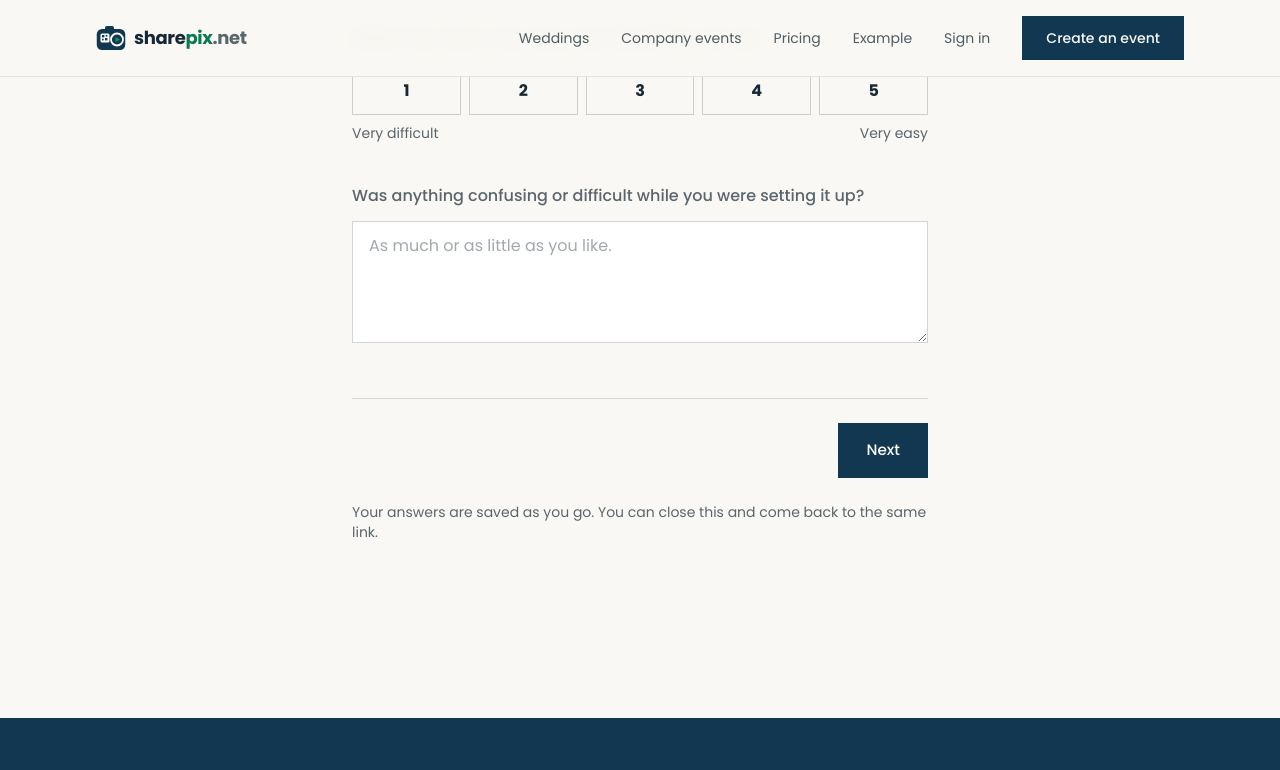
moving between steps › offers the send button only on the last step
This screenshot has width=1280, height=770.
(page scrolled)
Expected: the button "send my feedback" is not shown
Click the button "Next" at (883, 450), box [838, 423, 928, 478]
(page scrolled)
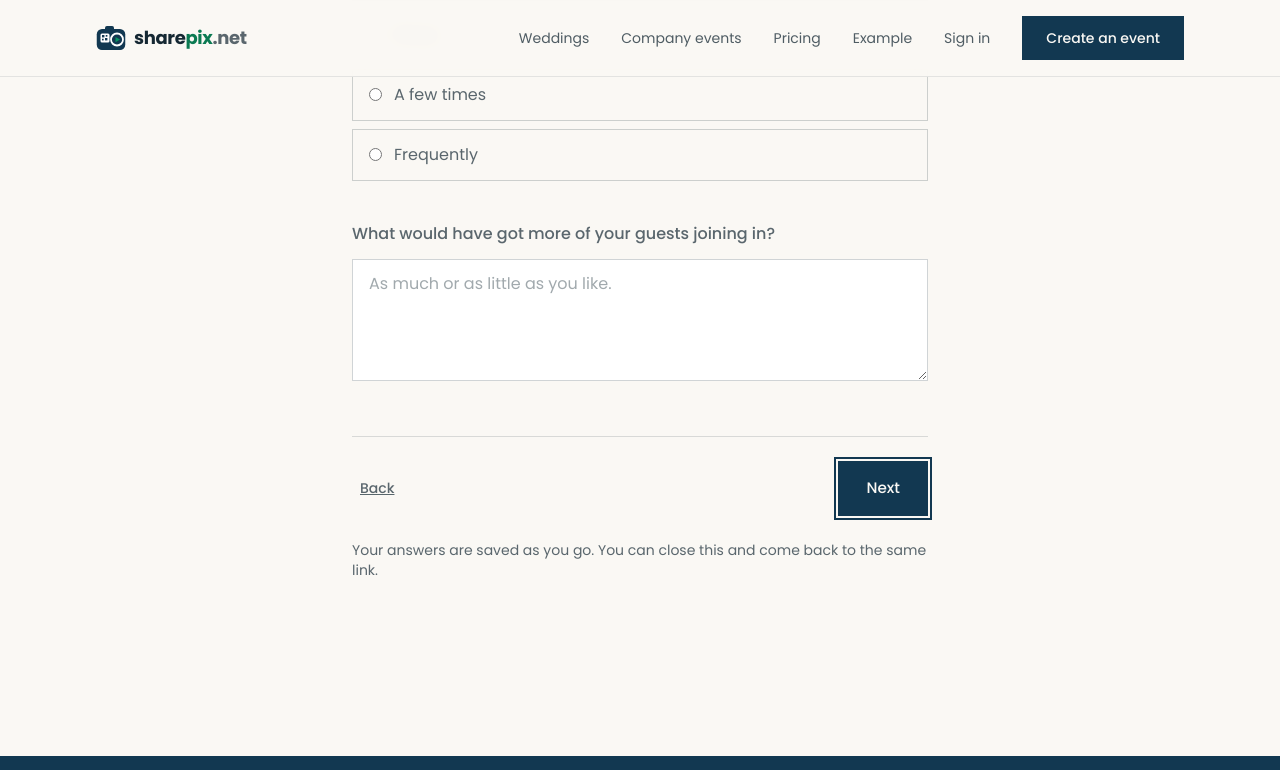
Click the button "Next" at (883, 488), box [838, 461, 928, 516]
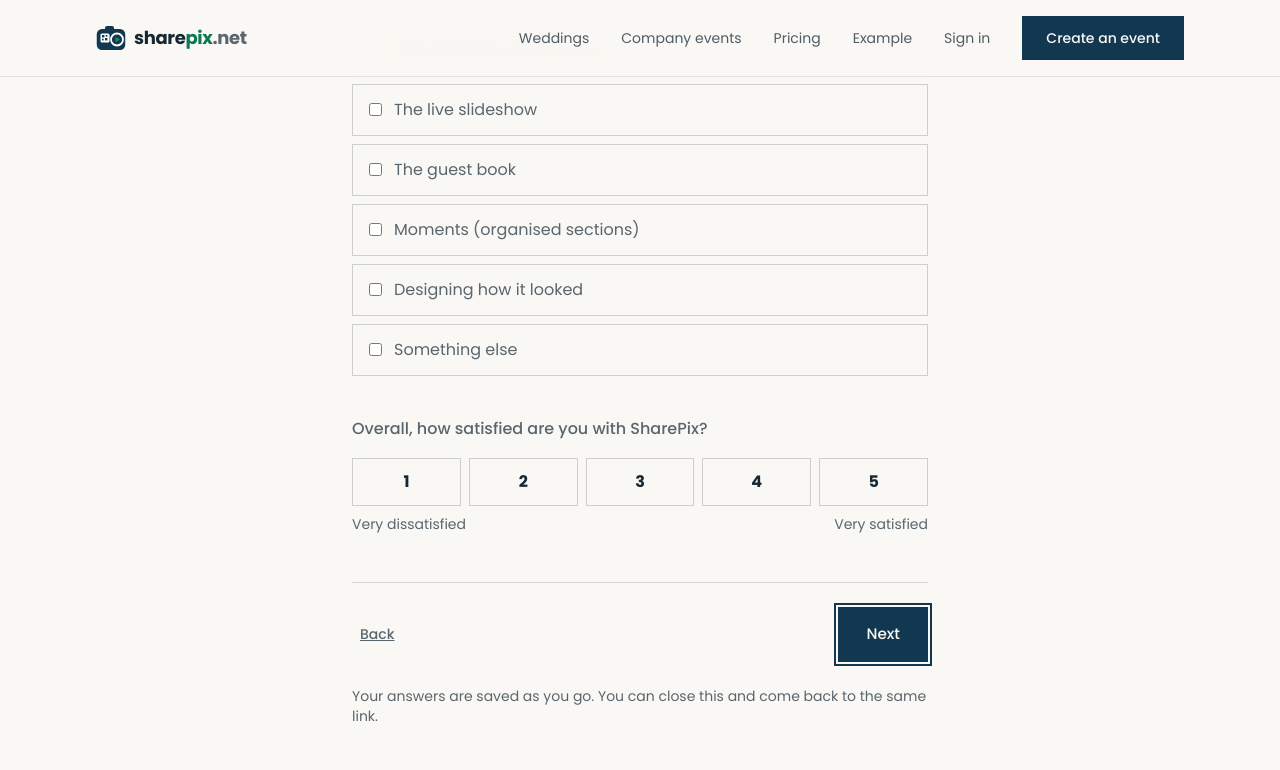
Click the button "Next" at (883, 634), box [838, 607, 928, 662]
(page scrolled)
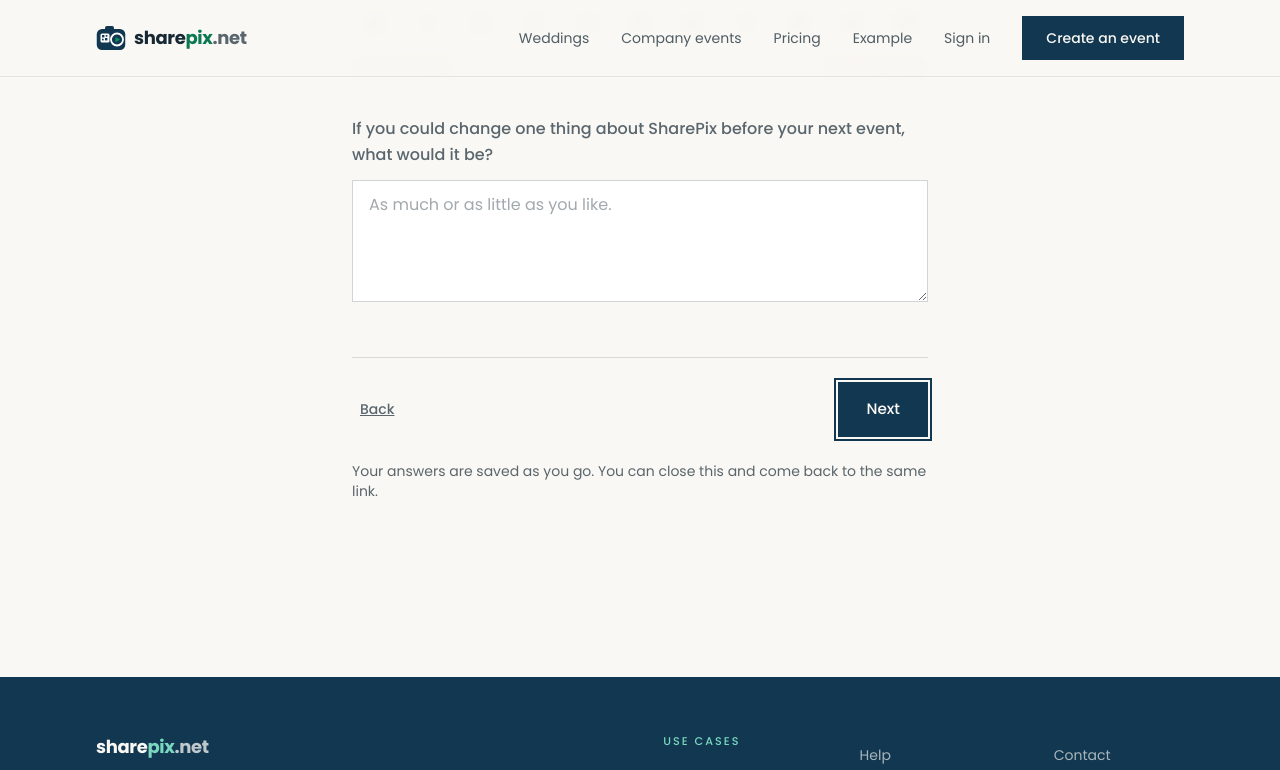
Click the button "Next" at (883, 409), box [838, 382, 928, 437]
(page scrolled)
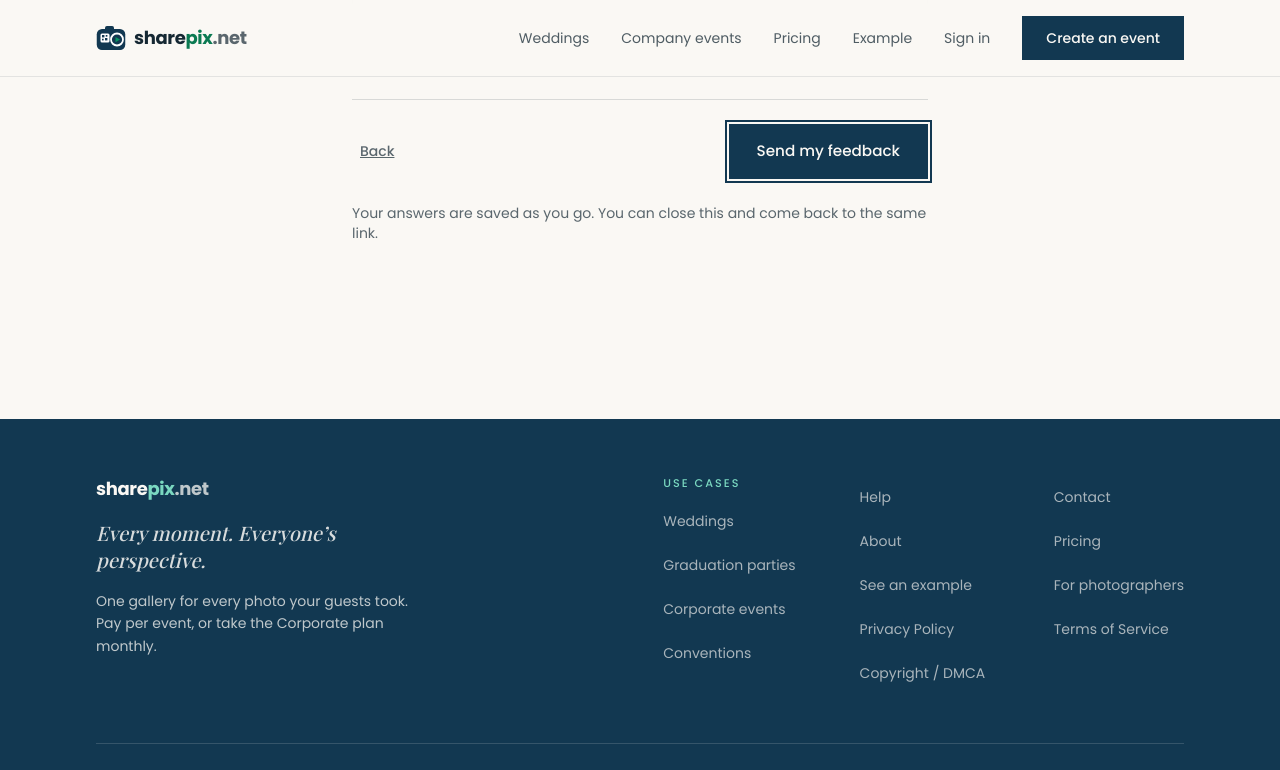
Result: the button "Send my feedback" is shown at [729, 124, 928, 179]
